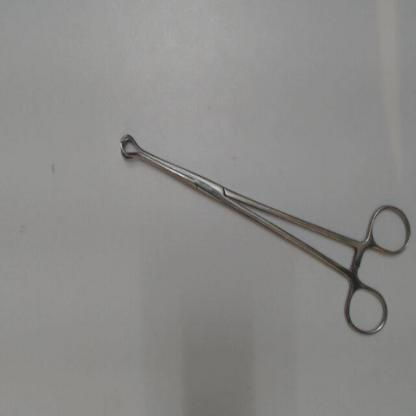8 Babcock Tissue Forceps: (113, 121, 414, 344)
